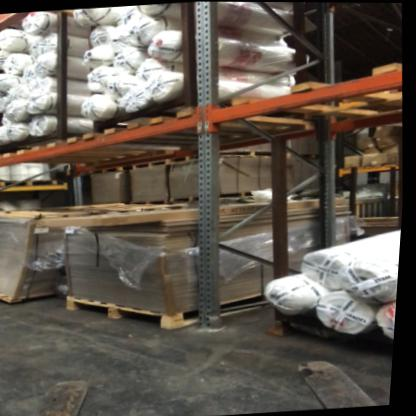vertical_damage: (197, 308, 237, 336)
